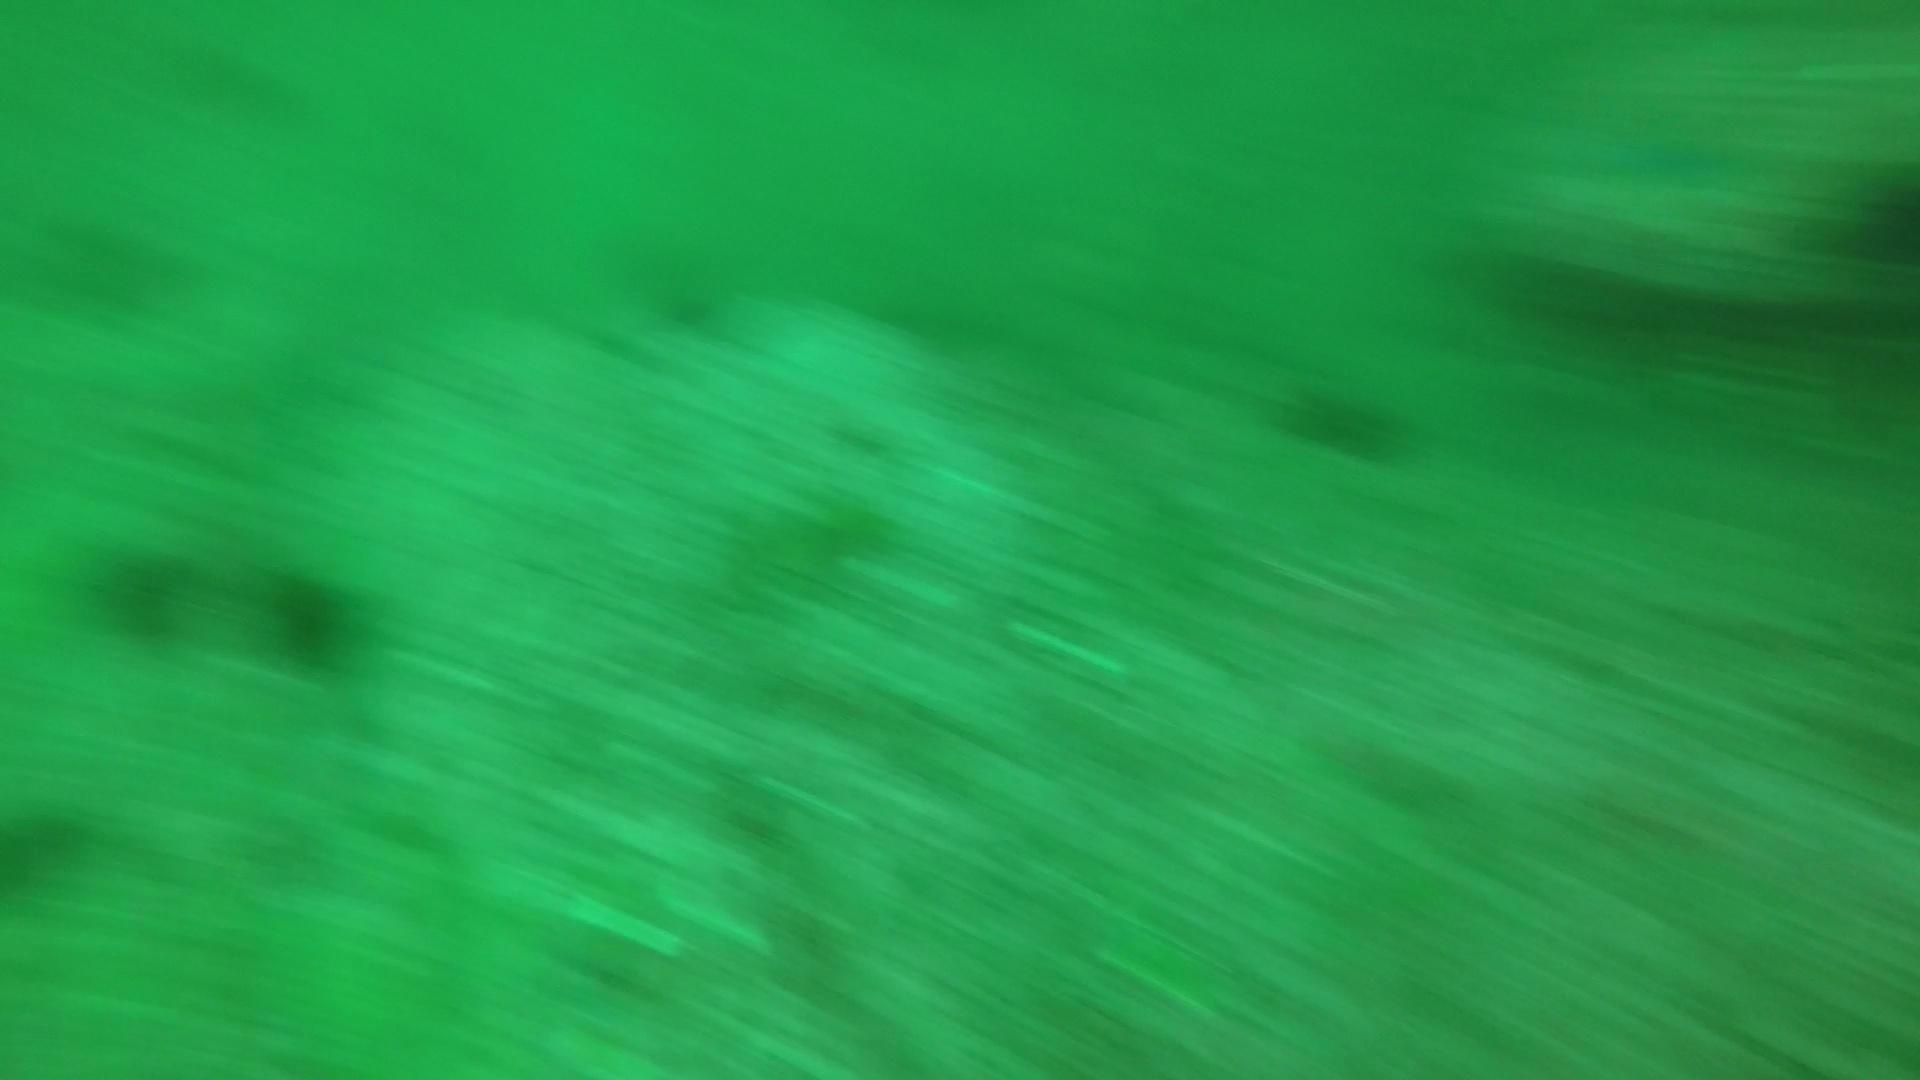echinus: (76, 534, 198, 647), (1273, 372, 1414, 465), (255, 559, 369, 673), (1, 790, 95, 898), (1840, 158, 1920, 272)
